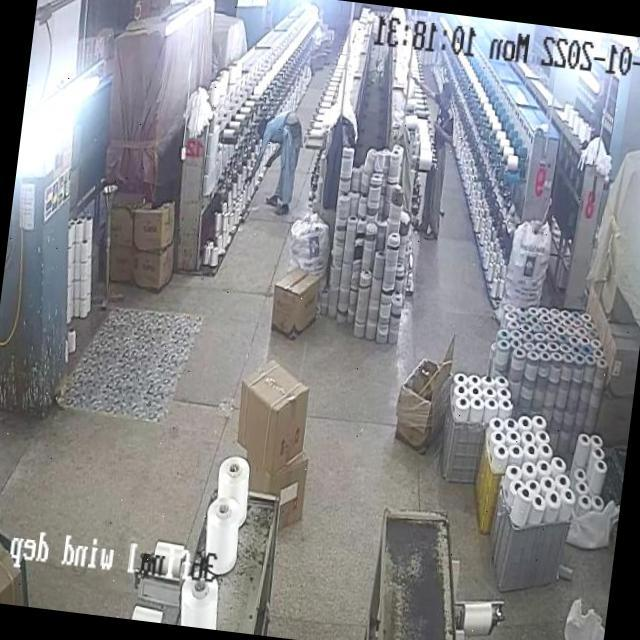person: (243, 99, 300, 228), (420, 86, 458, 236)
